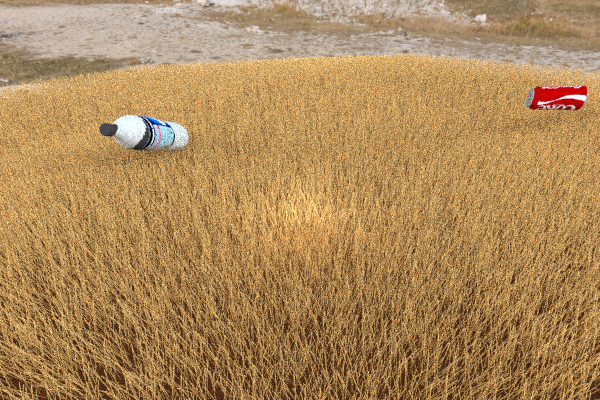bottle: (99, 115, 188, 150)
can: (267, 89, 312, 129), (525, 85, 588, 110)
